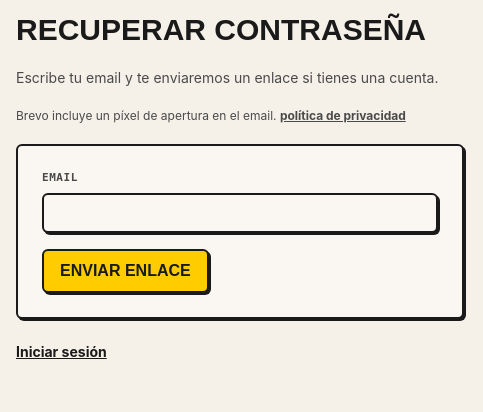
Scenario: requests a link and shows the generic server response
Step 1. Type "ana@example.com" into the field labelled "Email" → (240, 212), box 42,192 -> 438,232
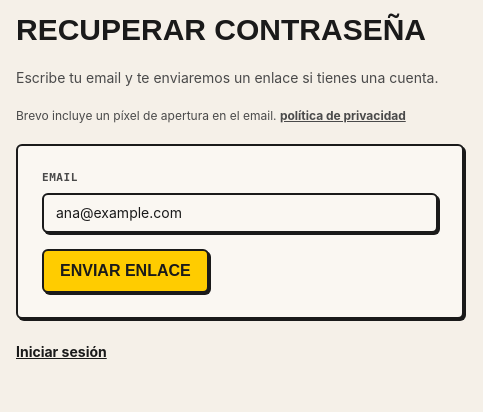
Step 2. Click the button "Enviar enlace" → (125, 270), box 42,248 -> 209,292
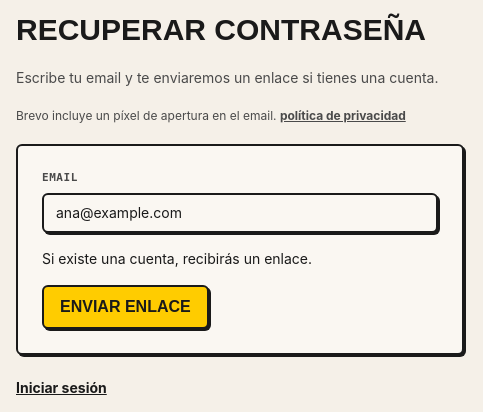
Expected: the message reads "Si existe una cuenta, recibirás un enlace.", 42,250 -> 312,266
